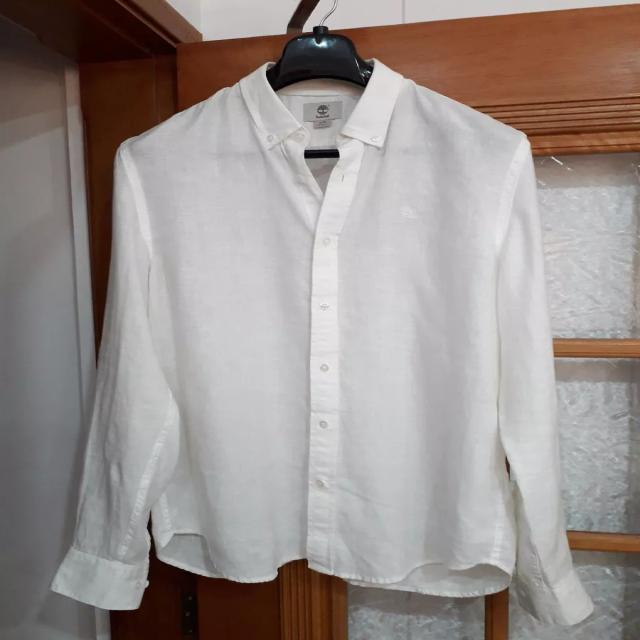long sleeve shirt: (46, 59, 595, 629)
